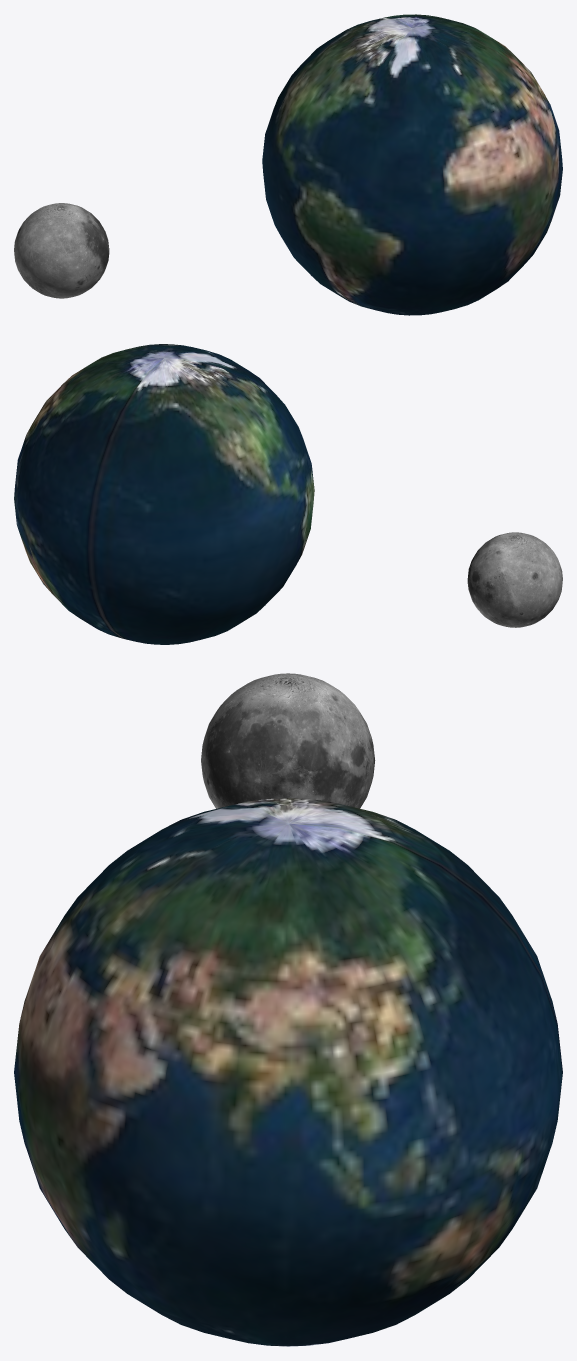
File: earth_and_moon.glb
3 views of the same model, one above another, from view 1: azimuth 30°, elevation 25°; view 2: azimuth 150°, elevation 25°; view 3: azimuth 270°, elevation 25° (orthographic). The views are drawn at different scales.
Visible parts, largest first — view 1: Material2 (×2); view 2: Material2 (×2); view 3: Material2 (×2).
Boxes of the visible parts, bbox=[...] form: Material2 (×2): bbox=[14, 14, 562, 315]; Material2 (×2): bbox=[14, 344, 562, 644]; Material2 (×2): bbox=[14, 673, 562, 1346].
Size of the model in its own units: 277 by 138 by 138.
2 materials, 2 textured.
